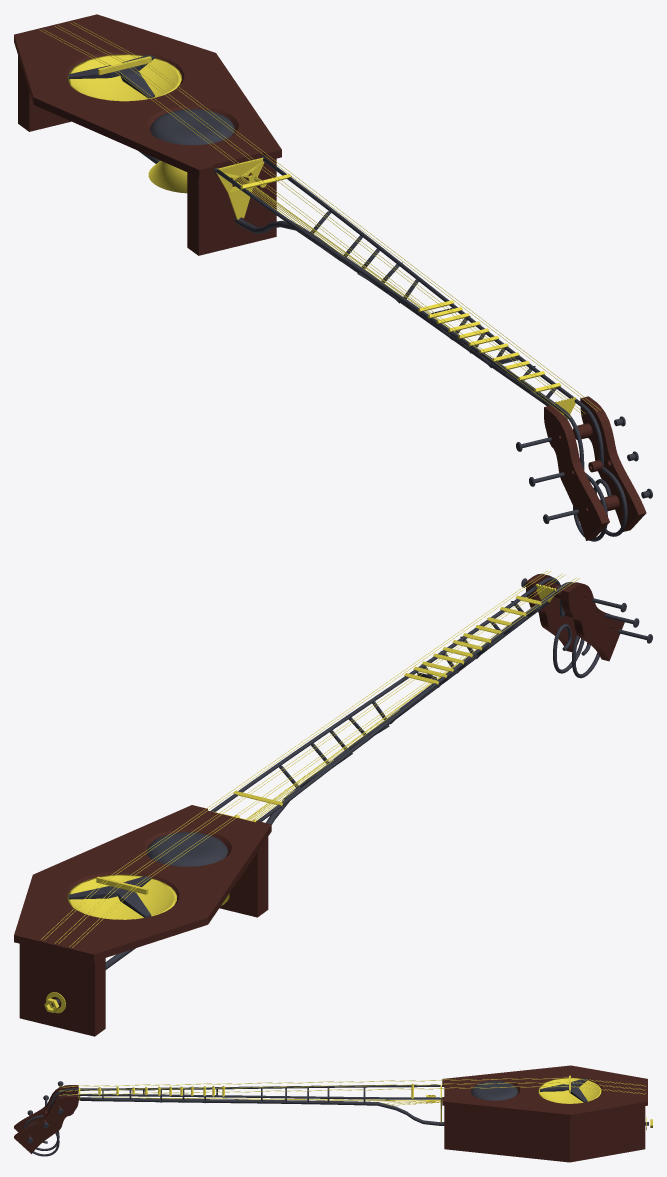
The model's file is shazna-KonPhone.glb.
The picture shows the model from 3 angles, top to bottom: view 1: azimuth 30°, elevation 25°; view 2: azimuth 150°, elevation 25°; view 3: azimuth 270°, elevation 25°; orthographic projection. The views are drawn at different scales.
Parts seen in each view (by area): view 1: body_top.001, head_block.001, body_neck.001, top_rods.001, Vert.002, cone_big.001, hub_cap, spine.001, body_tail.001, truss_shortest.002, heel_plate.001, sympathetic_strings.001 (+3 smaller); view 2: body_top.001, body_tail.001, top_rods.001, head_block.001, Vert.002, cone_big.001, hub_cap, body_neck.001, spine.001, spider, truss_shortest.002, sympathetic_strings.001; view 3: body_top.001, body_long.001, body_short.001, Vert.002, top_rods.001, head_block.001, spine.001, cone_big.001, hub_cap, sympathetic_strings.001, spider, truss_shortest.002 (+1 smaller).
Boxes of the visible parts, x1,y1,x2,y2 form: body_top.001: (14, 14, 281, 177); head_block.001: (544, 396, 646, 540); body_neck.001: (187, 158, 276, 255); top_rods.001: (214, 156, 627, 541); Vert.002: (39, 21, 600, 418); cone_big.001: (67, 54, 181, 101); hub_cap: (150, 109, 234, 145); spine.001: (138, 151, 567, 419); body_tail.001: (18, 55, 70, 131); truss_shortest.002: (289, 211, 556, 401); heel_plate.001: (216, 158, 264, 219); sympathetic_strings.001: (235, 176, 478, 348); body_top.001: (14, 805, 271, 961); body_tail.001: (19, 944, 105, 1036); top_rods.001: (210, 577, 599, 821); head_block.001: (525, 573, 624, 661); Vert.002: (41, 570, 579, 947); cone_big.001: (67, 874, 176, 919); hub_cap: (147, 832, 227, 866); body_neck.001: (219, 837, 268, 917); spine.001: (51, 600, 549, 1006); spider: (68, 876, 151, 917); truss_shortest.002: (279, 601, 540, 787); sympathetic_strings.001: (246, 643, 484, 820); body_top.001: (442, 1065, 647, 1118); body_long.001: (444, 1106, 569, 1162); body_short.001: (570, 1106, 645, 1162); Vert.002: (59, 1077, 645, 1095); top_rods.001: (23, 1084, 442, 1156); head_block.001: (14, 1085, 78, 1153); spine.001: (78, 1097, 648, 1125); cone_big.001: (538, 1078, 601, 1103); hub_cap: (471, 1080, 517, 1100); sympathetic_strings.001: (91, 1097, 442, 1105); spider: (540, 1078, 587, 1102); truss_shortest.002: (102, 1087, 365, 1104).
Size of the model in its own units: 0.1866 by 0.1257 by 1.02.
